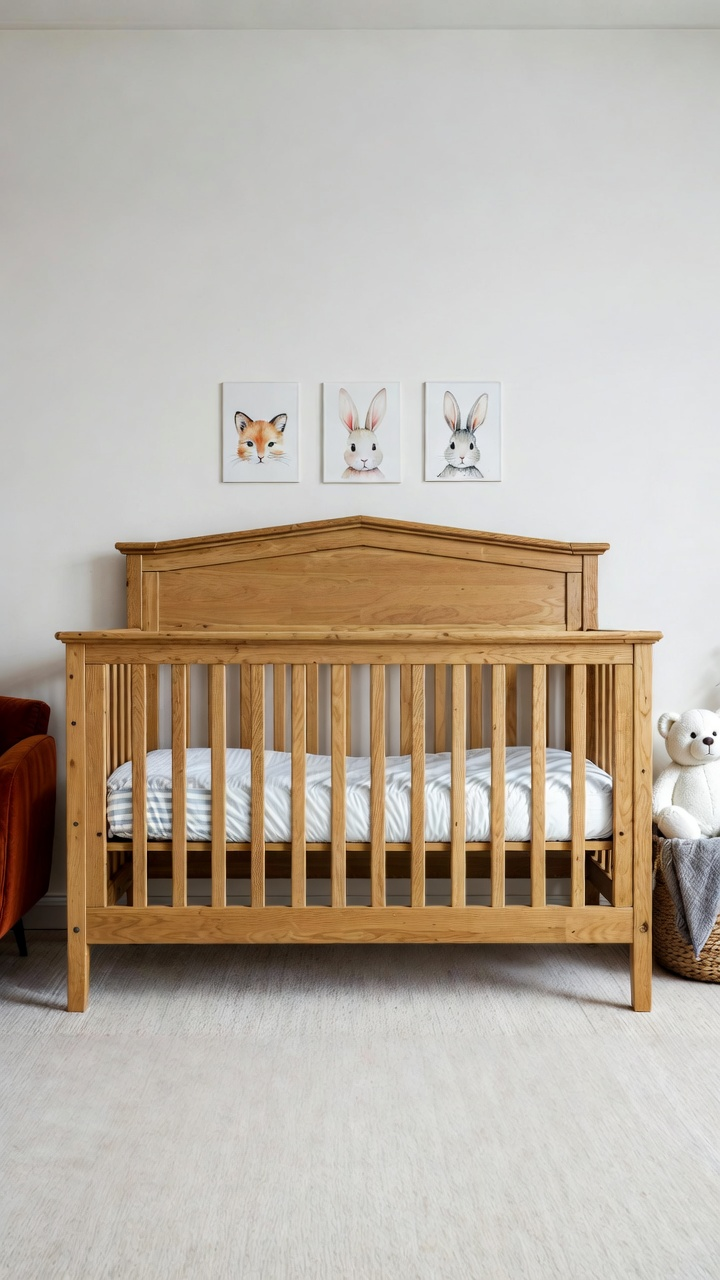crib: (55, 515, 660, 1010)
